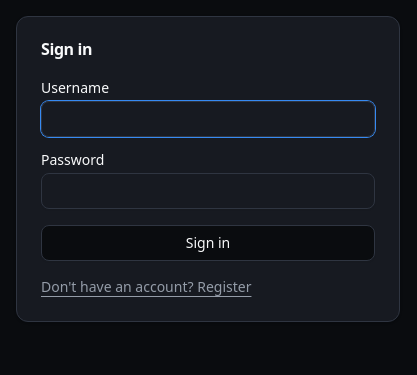
Test: LoginPage › shows the server error on a wrong password
Type "alice" into the field labelled "Username" at (208, 119), box [41,101,375,137]
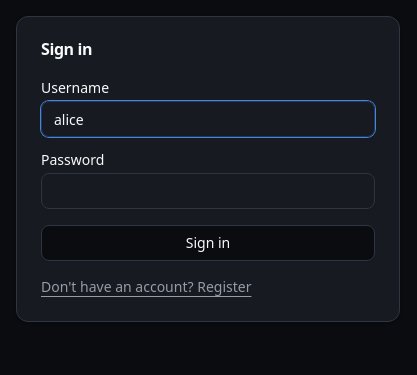
Type "wrong" into the password field labelled "Password" at (208, 191), box [41,173,375,209]
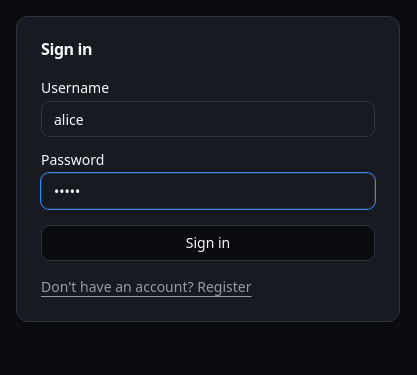
Click the button "Sign in" at (208, 243), box [41,225,375,261]
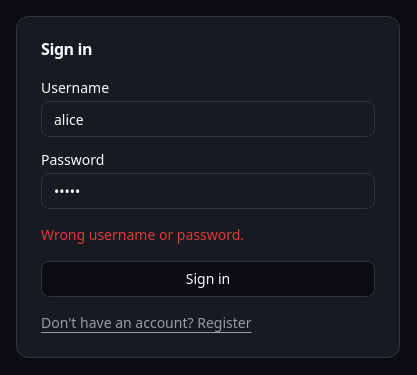
Expected: the message reads "Wrong username or password.", [41,225,244,244]
